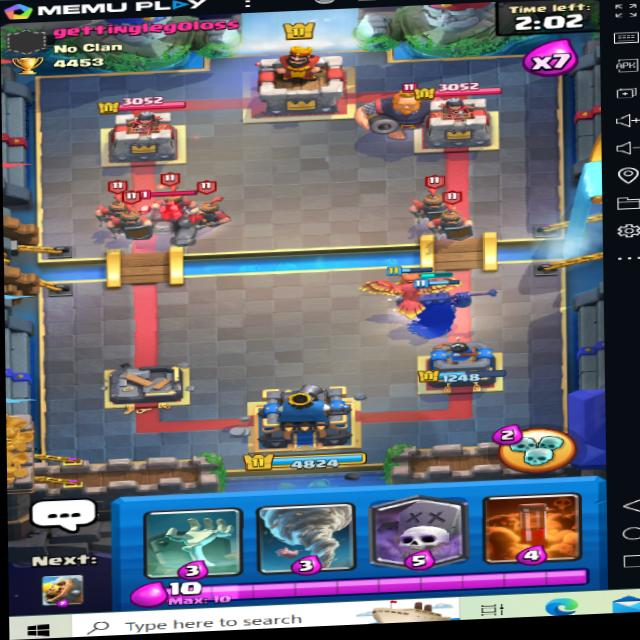golem: (117, 185, 218, 250)
royal-giant: (354, 80, 458, 139)
royal-recruits: (184, 178, 246, 236), (149, 167, 205, 226), (89, 174, 136, 233), (425, 191, 479, 241), (410, 171, 460, 225), (106, 193, 158, 241)
